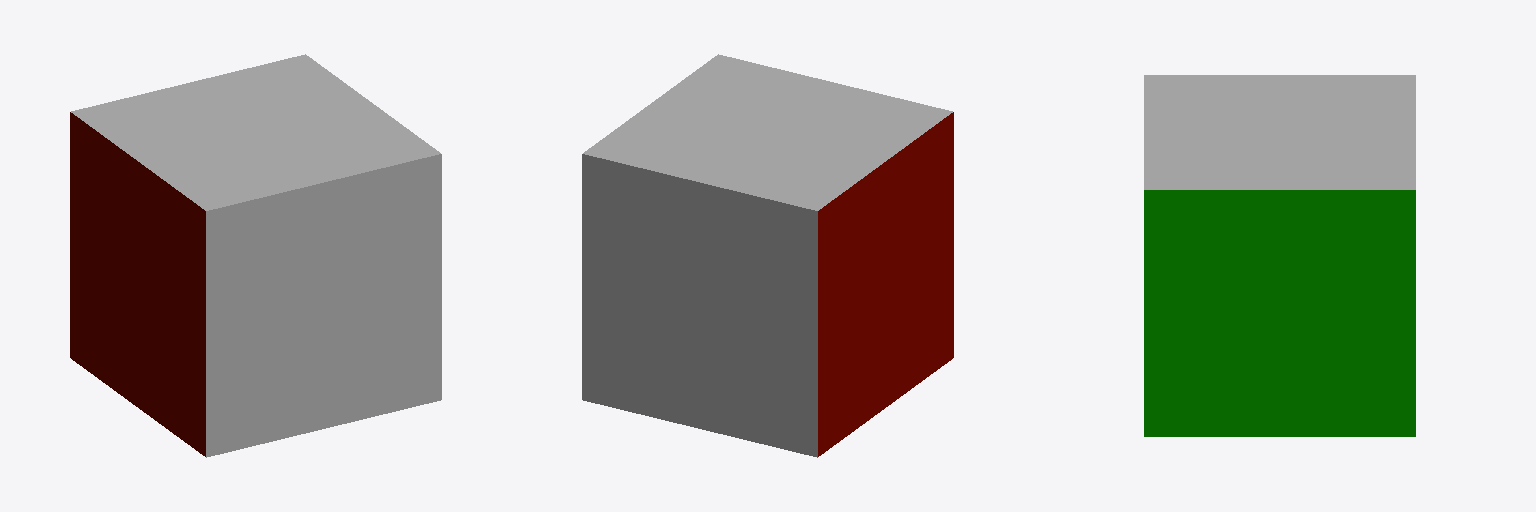
3 views of the same model, side by side, from view 1: azimuth 30°, elevation 25°; view 2: azimuth 150°, elevation 25°; view 3: azimuth 270°, elevation 25° (orthographic).
Parts seen in each view (by area): view 1: Cube_Cube.002; view 2: Cube_Cube.002; view 3: Cube_Cube.002.
Boxes of the visible parts, box(x1,y1,x2,y2) form: Cube_Cube.002: box(70, 54, 441, 457); Cube_Cube.002: box(582, 54, 953, 457); Cube_Cube.002: box(1144, 75, 1415, 436).
Size of the model in its own units: 8.6 by 8.6 by 8.6.
1 materials, 1 textured.